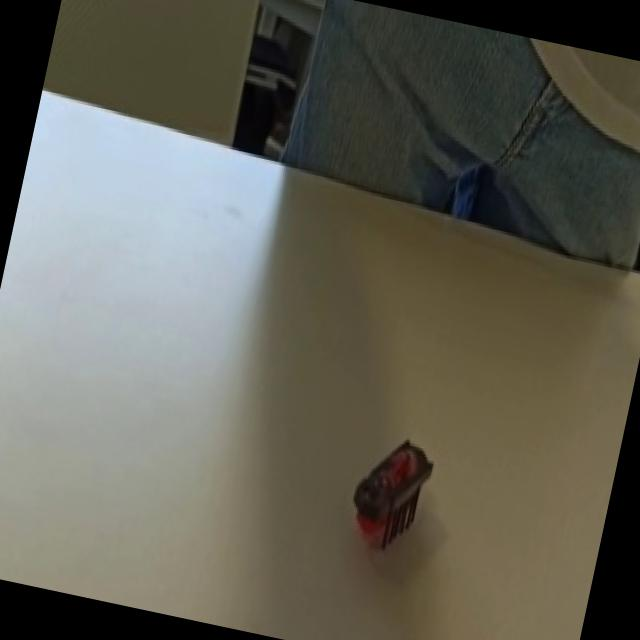2_NanoBug_Negro: (320, 412, 464, 570)
